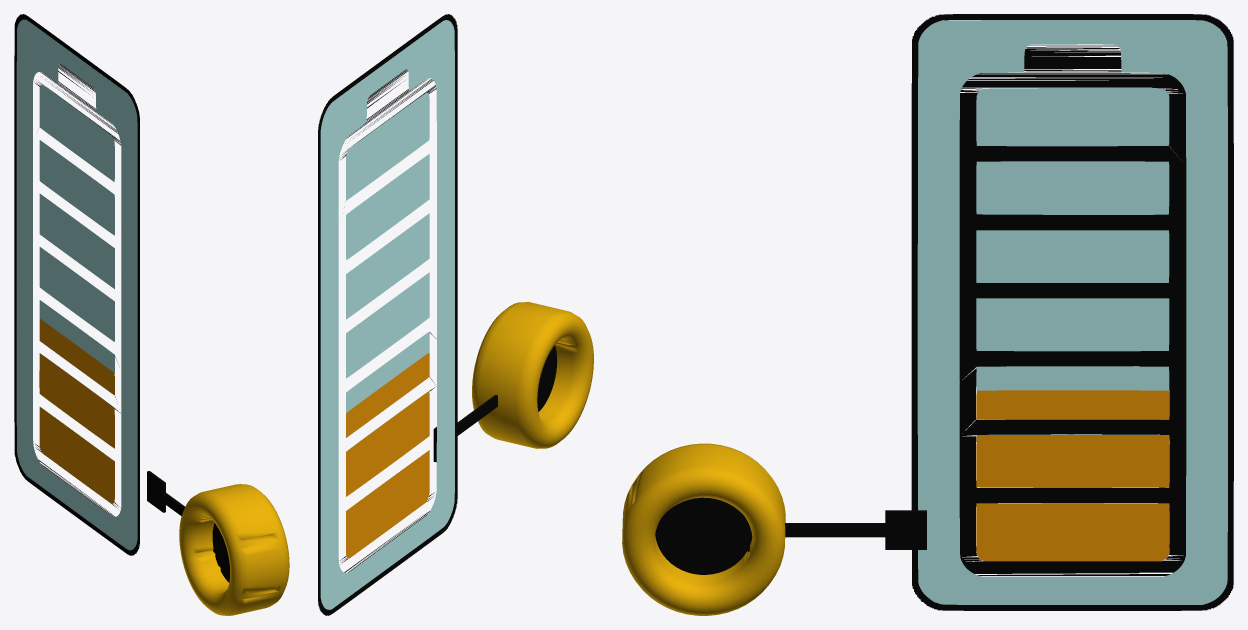
File: LowBattery.fbx
3 views of the same model, side by side, from view 1: azimuth 30°, elevation 25°; view 2: azimuth 150°, elevation 25°; view 3: azimuth 270°, elevation 25° (orthographic). The views are drawn at different scales.
Parts seen in each view (by area): view 1: 3.BODY.029; view 2: 3.BODY.029; view 3: 3.BODY.029.
Part boxes in pixels (x1=…): 3.BODY.029: x1=14, y1=14, x2=289, y2=615; 3.BODY.029: x1=318, y1=14, x2=593, y2=615; 3.BODY.029: x1=622, y1=14, x2=1233, y2=615.
Bounding box in the file's own units: 5.93 × 47.33 × 43.96.
